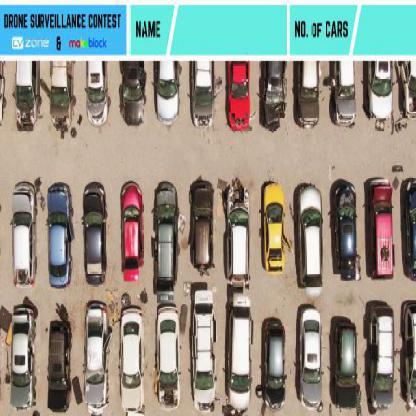car: (226, 201, 252, 399), (229, 61, 285, 133), (152, 182, 179, 304), (223, 178, 252, 290), (296, 185, 324, 298), (47, 184, 75, 288), (84, 300, 110, 412), (330, 182, 359, 282), (12, 179, 38, 287), (10, 302, 36, 410), (119, 178, 145, 284), (83, 182, 109, 286), (331, 312, 358, 412), (155, 312, 181, 410), (371, 303, 395, 407), (298, 306, 322, 408), (369, 181, 393, 281), (49, 306, 72, 410), (261, 180, 285, 279), (194, 285, 214, 403), (262, 316, 287, 410), (121, 308, 143, 412), (191, 177, 215, 267), (400, 301, 416, 410), (228, 64, 252, 134), (334, 60, 358, 128), (263, 64, 287, 132), (297, 64, 321, 130), (121, 64, 145, 128), (192, 64, 215, 130), (370, 60, 394, 122), (16, 61, 36, 132), (157, 61, 179, 121), (87, 72, 108, 127)
